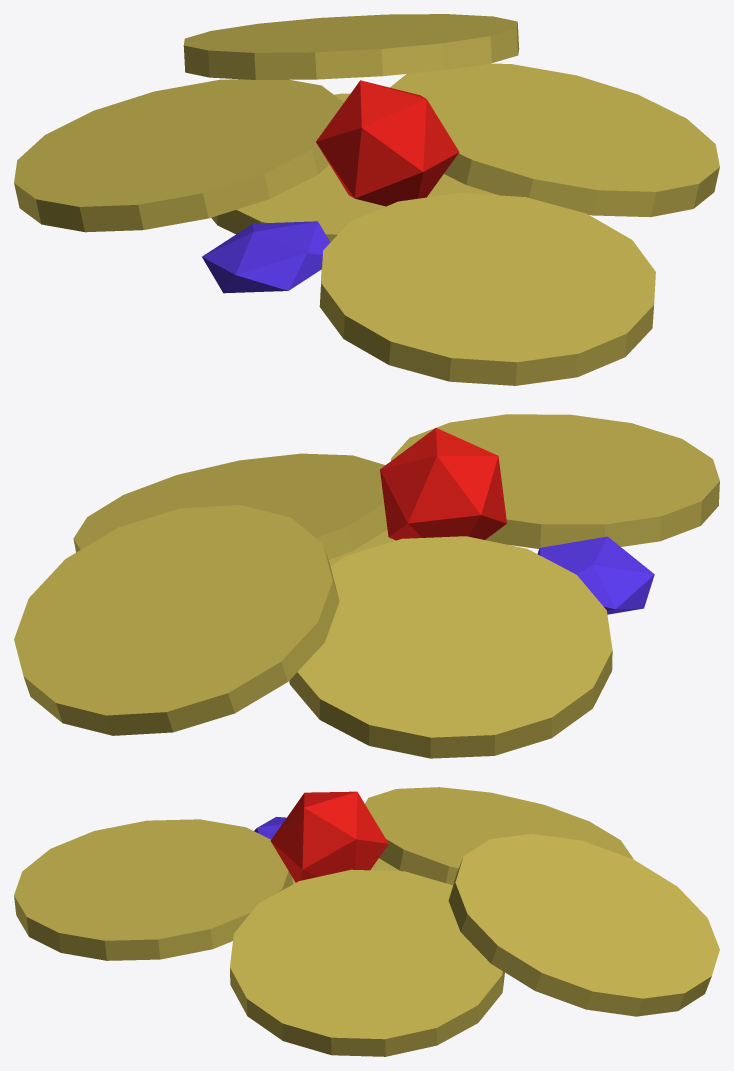
Rendered from CoinPile.fbx.
3 views of the same model, one above another, from view 1: azimuth 30°, elevation 25°; view 2: azimuth 150°, elevation 25°; view 3: azimuth 270°, elevation 25° (orthographic). The views are drawn at different scales.
Parts seen in each view (by area): view 1: Icosphere; view 2: Icosphere; view 3: Icosphere.
Boxes of the visible parts, <box> form: Icosphere: <box>14,14,719,385</box>; Icosphere: <box>14,414,719,758</box>; Icosphere: <box>14,787,719,1056</box>.
Bounding box in the file's own units: 398 × 105 × 507.
